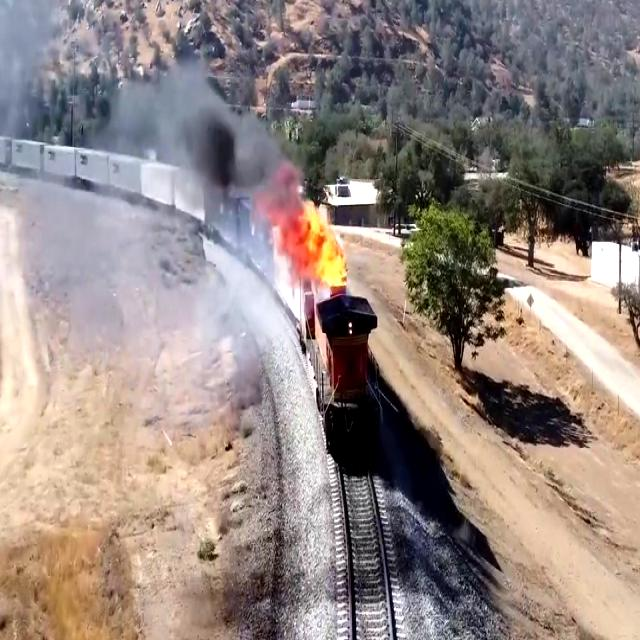fire: (272, 182, 347, 294)
smoke: (121, 42, 208, 156), (194, 113, 270, 209)
